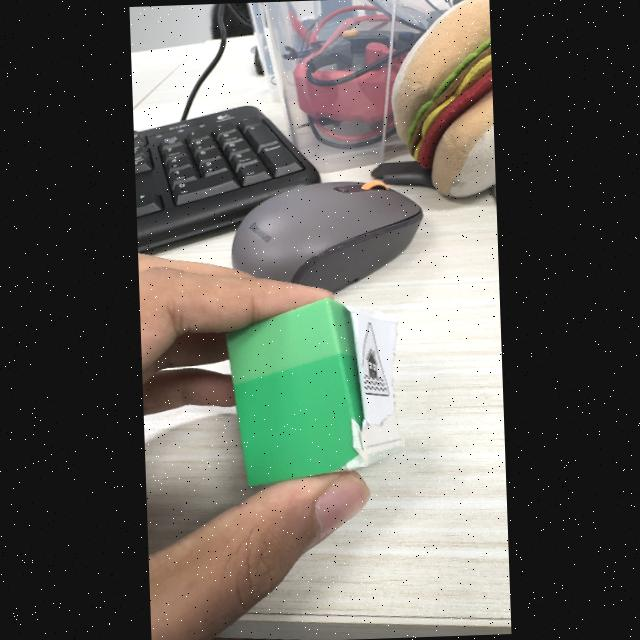Tsunami: (361, 322, 389, 396)
